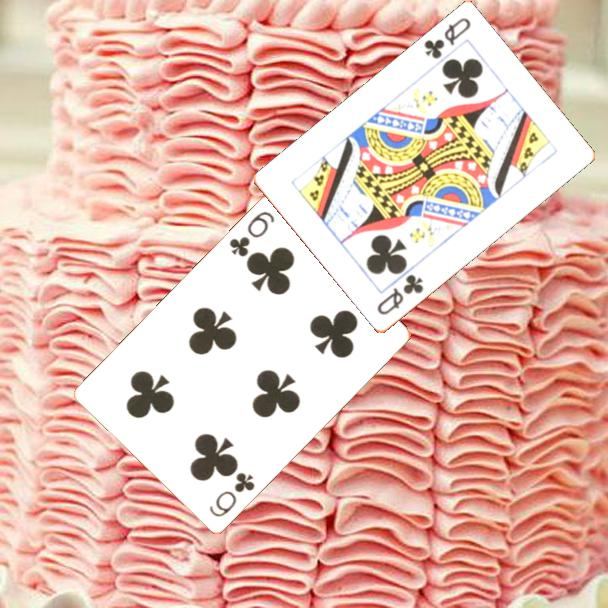c06: (206, 469, 258, 520), (226, 208, 277, 260)
c12: (373, 271, 427, 319), (420, 14, 474, 62)
